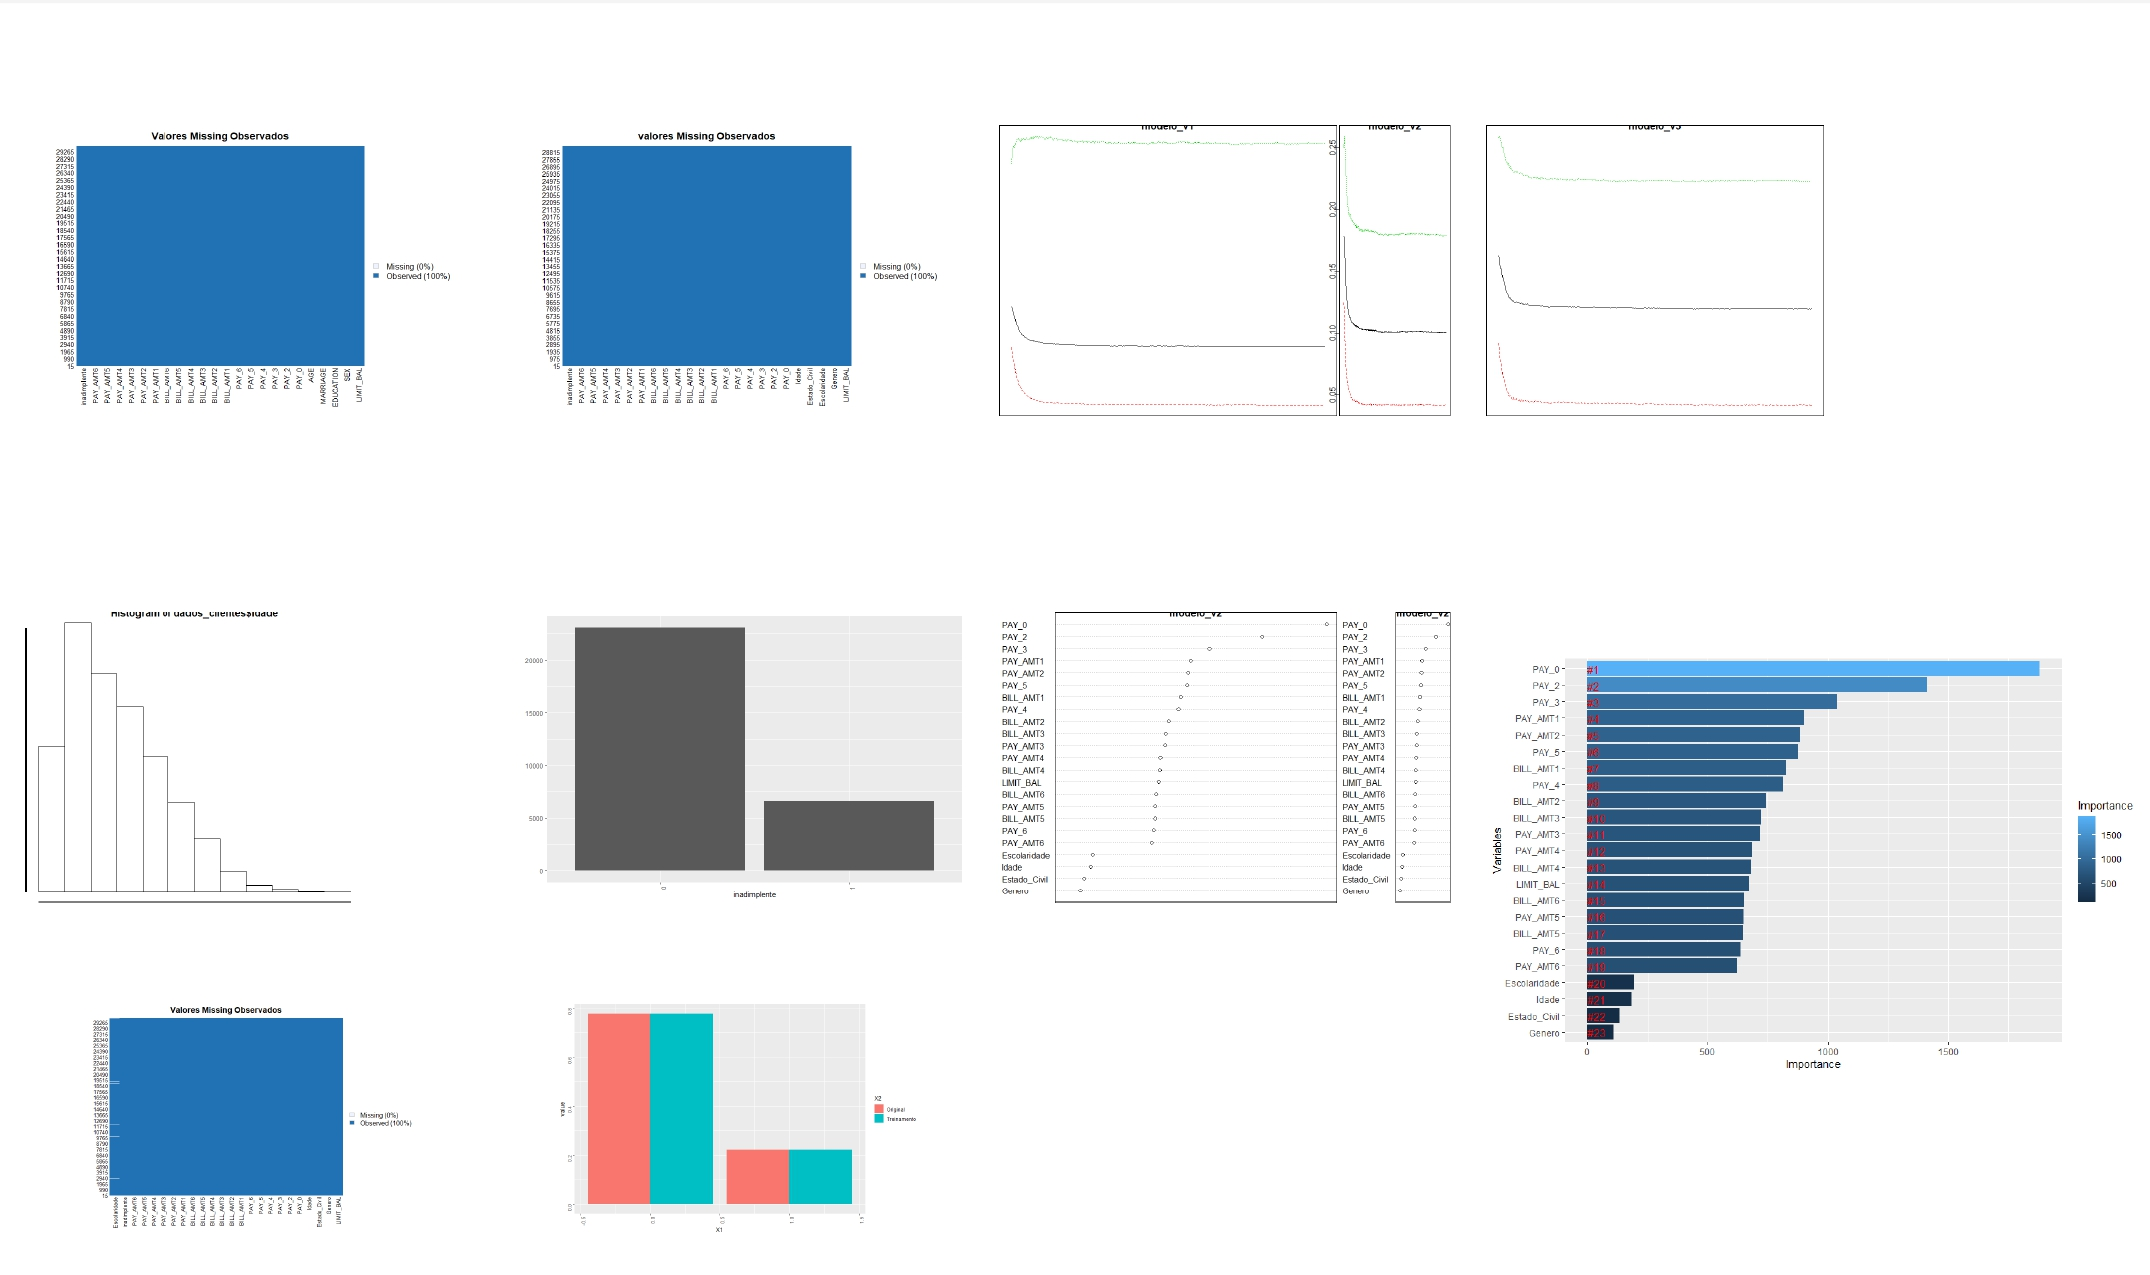

Layout of this report page (visuals, bound fields, positions):
{"tool":"powerbi","page":{"name":"Página 1","canvas":[1280,720],"ordinal":0},"visuals":[{"type":"image","box":[10,0,280,280],"z":0},{"type":"image","box":[10,290,280,280],"z":1},{"type":"image","box":[10,570,280,150],"z":2},{"type":"image","box":[300,0,280,280],"z":3},{"type":"image","box":[300,290,280,280],"z":4},{"type":"image","box":[300,570,280,150],"z":5},{"type":"image","box":[590,0,280,280],"z":6},{"type":"image","box":[590,290,280,280],"z":7},{"type":"image","box":[879.7,343.5,400.5,301.2],"z":8},{"type":"image","box":[880,0,280,280],"z":9}]}

Visuals, with their boxes on the page's 1280x720 design canvas (x1, y1, x2, y2). These are canvas units, not pixel positions in the 2150x1275 screenshot, which may show the page scaled, cropped or inside an application window:
image: rect(10, 0, 290, 280)
image: rect(10, 290, 290, 570)
image: rect(10, 570, 290, 720)
image: rect(300, 0, 580, 280)
image: rect(300, 290, 580, 570)
image: rect(300, 570, 580, 720)
image: rect(590, 0, 870, 280)
image: rect(590, 290, 870, 570)
image: rect(880, 344, 1280, 645)
image: rect(880, 0, 1160, 280)
